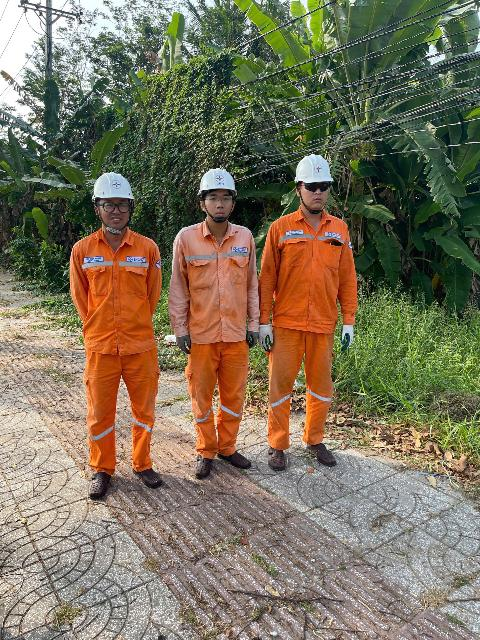gloves: (336, 322, 364, 352), (258, 319, 279, 353), (169, 331, 196, 357), (239, 322, 262, 350)
helmet: (84, 161, 146, 209), (191, 160, 240, 200), (292, 149, 338, 189)
shoes: (260, 430, 294, 483), (79, 458, 114, 503), (124, 461, 168, 494), (306, 433, 339, 474), (217, 442, 256, 473), (188, 450, 215, 487)
